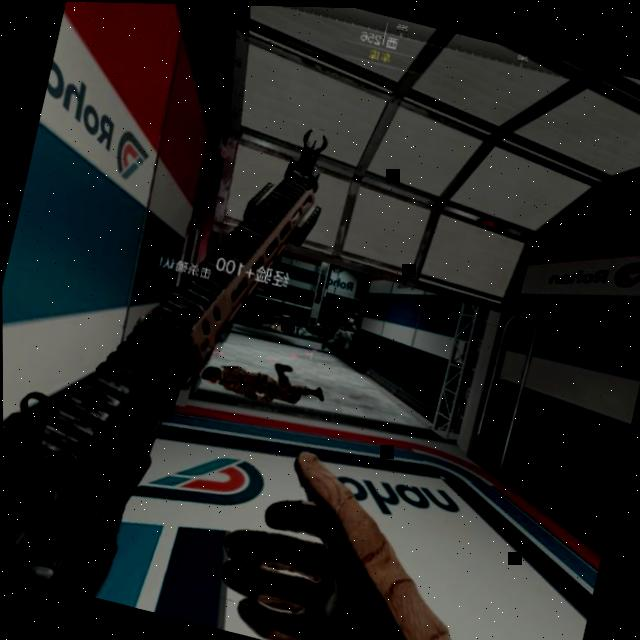MW2_body: (320, 304, 363, 357)
